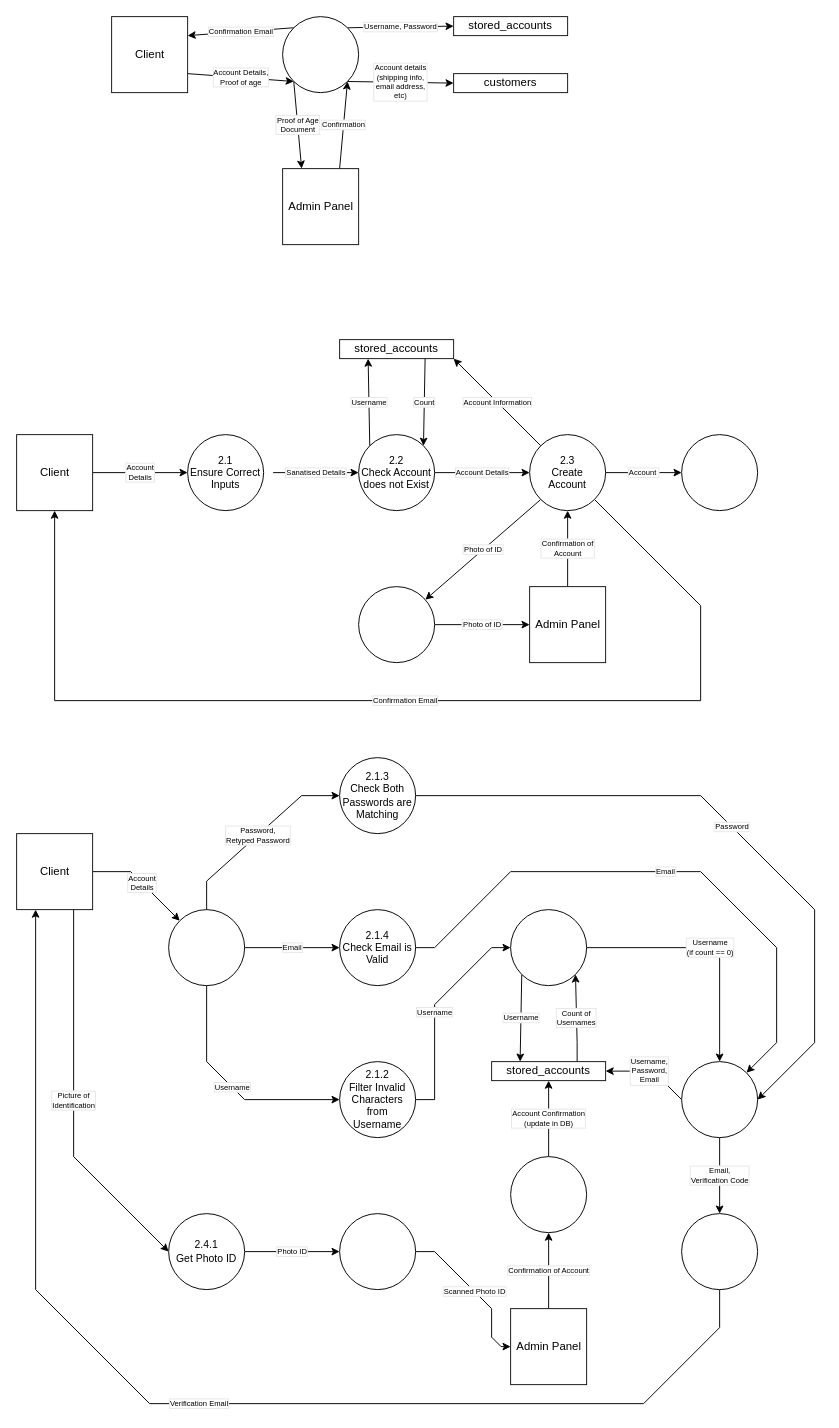
Image size: 839x1428. Some labels were removed from this diagram. The shapes that lost their labels are listed below. From the top down, each one's centre as x and y in pixels, then its label:
the point at 320,54: 2 Register Account
the point at 719,472: 2.5 Create Session
the point at 396,624: 2.4 Send ID for Confirmation
the point at 206,947: 2.1.1 Get Details from Request
the point at 548,947: 2.2.1 Search for Username in Database
the point at 719,1099: 2.3.1 Insert Account into Database
the point at 548,1194: 2.4.3 Confirm Account
the point at 377,1251: 2.4.2 Send Scanned Photo ID to Admin
the point at 719,1251: 2.3.2 Send Verification Email
